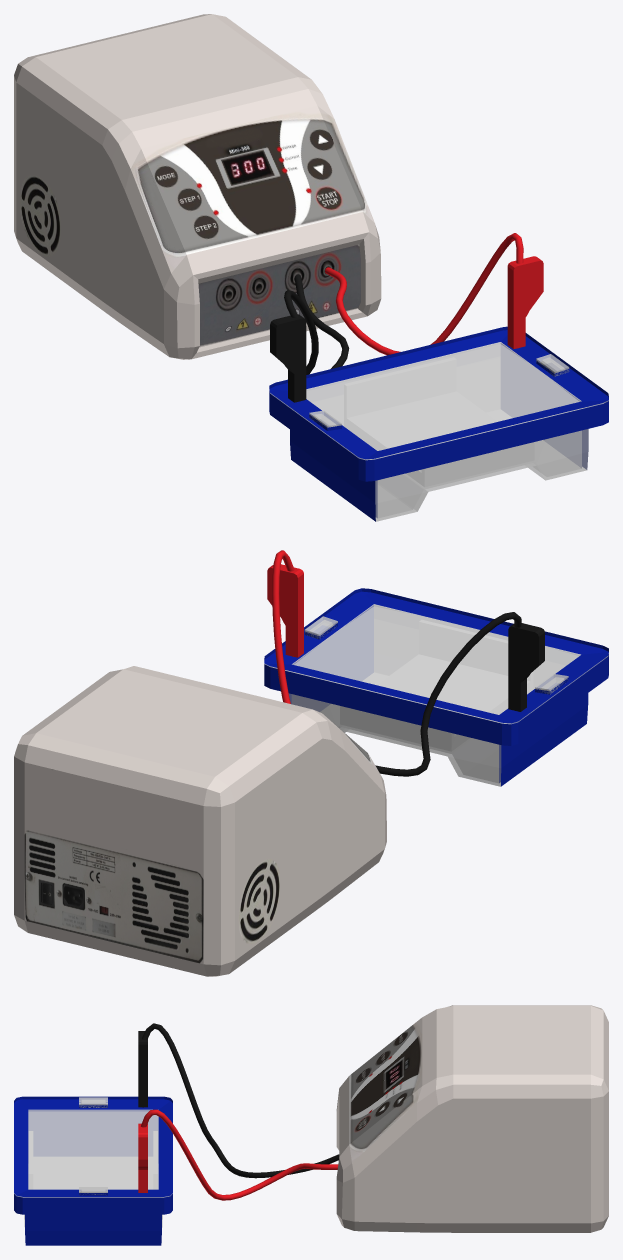
Rendered from EletroforeseOpaque.fbx.
3 views of the same model, one above another, from view 1: azimuth 30°, elevation 25°; view 2: azimuth 150°, elevation 25°; view 3: azimuth 270°, elevation 25° (orthographic). The views are drawn at different scales.
Visible parts, largest first — view 1: Cube.002, Cube, Cube.004, Cube.001, Cube.003, BezierCurve.001, BezierCurve; view 2: Cube.002, Cube, Cube.004, Cube.003, Cube.001, BezierCurve, BezierCurve.001; view 3: Cube.002, Cube, Cube.004, BezierCurve, BezierCurve.001, Cube.003, Cube.001.
Part boxes in pixels (x1=…): Cube.002: x1=14, y1=14, x2=381, y2=359; Cube: x1=269, y1=342, x2=608, y2=521; Cube.004: x1=269, y1=326, x2=608, y2=459; Cube.001: x1=507, y1=256, x2=543, y2=349; Cube.003: x1=270, y1=314, x2=306, y2=402; BezierCurve.001: x1=325, y1=233, x2=523, y2=355; BezierCurve: x1=284, y1=274, x2=349, y2=374; Cube.002: x1=14, y1=666, x2=386, y2=976; Cube: x1=264, y1=604, x2=608, y2=786; Cube.004: x1=264, y1=588, x2=608, y2=723; Cube.003: x1=508, y1=623, x2=544, y2=711; Cube.001: x1=267, y1=564, x2=303, y2=657; BezierCurve: x1=375, y1=612, x2=521, y2=776; BezierCurve.001: x1=272, y1=550, x2=294, y2=703; Cube.002: x1=336, y1=1005, x2=608, y2=1232; Cube: x1=14, y1=1097, x2=172, y2=1245; Cube.004: x1=14, y1=1096, x2=172, y2=1196; BezierCurve: x1=142, y1=1023, x2=339, y2=1178; BezierCurve.001: x1=141, y1=1109, x2=338, y2=1200; Cube.003: x1=138, y1=1031, x2=147, y2=1107; Cube.001: x1=138, y1=1123, x2=147, y2=1192.
Size of the model in its own units: 261 by 190 by 628.
